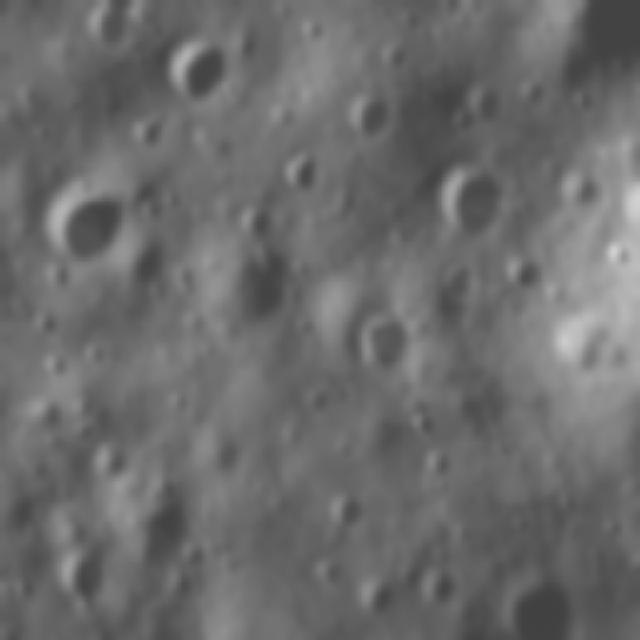crater: (41, 178, 128, 264), (421, 172, 505, 240), (491, 574, 577, 640), (156, 46, 233, 102), (362, 306, 410, 374), (59, 544, 107, 610), (344, 92, 402, 142), (461, 79, 514, 133), (282, 144, 321, 204), (351, 580, 400, 626), (409, 565, 456, 607), (427, 265, 478, 300), (333, 491, 373, 526), (34, 304, 66, 336), (40, 346, 72, 377), (84, 337, 107, 378), (608, 230, 624, 275), (77, 416, 95, 456)
